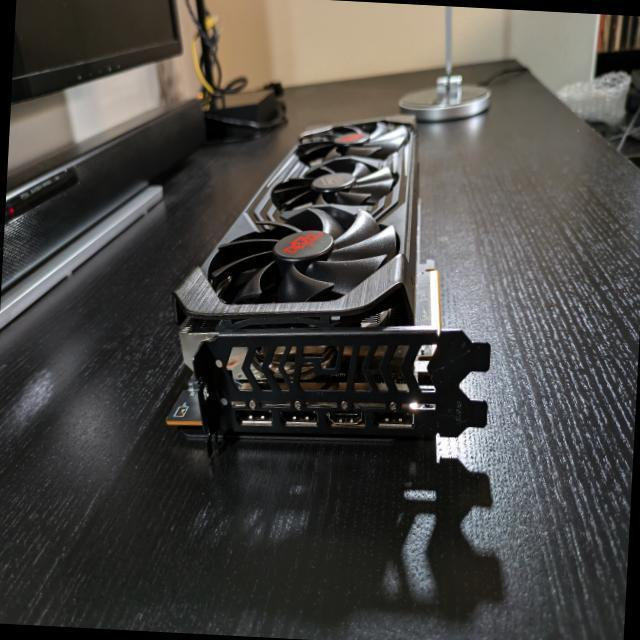GPU: (169, 109, 506, 442)
